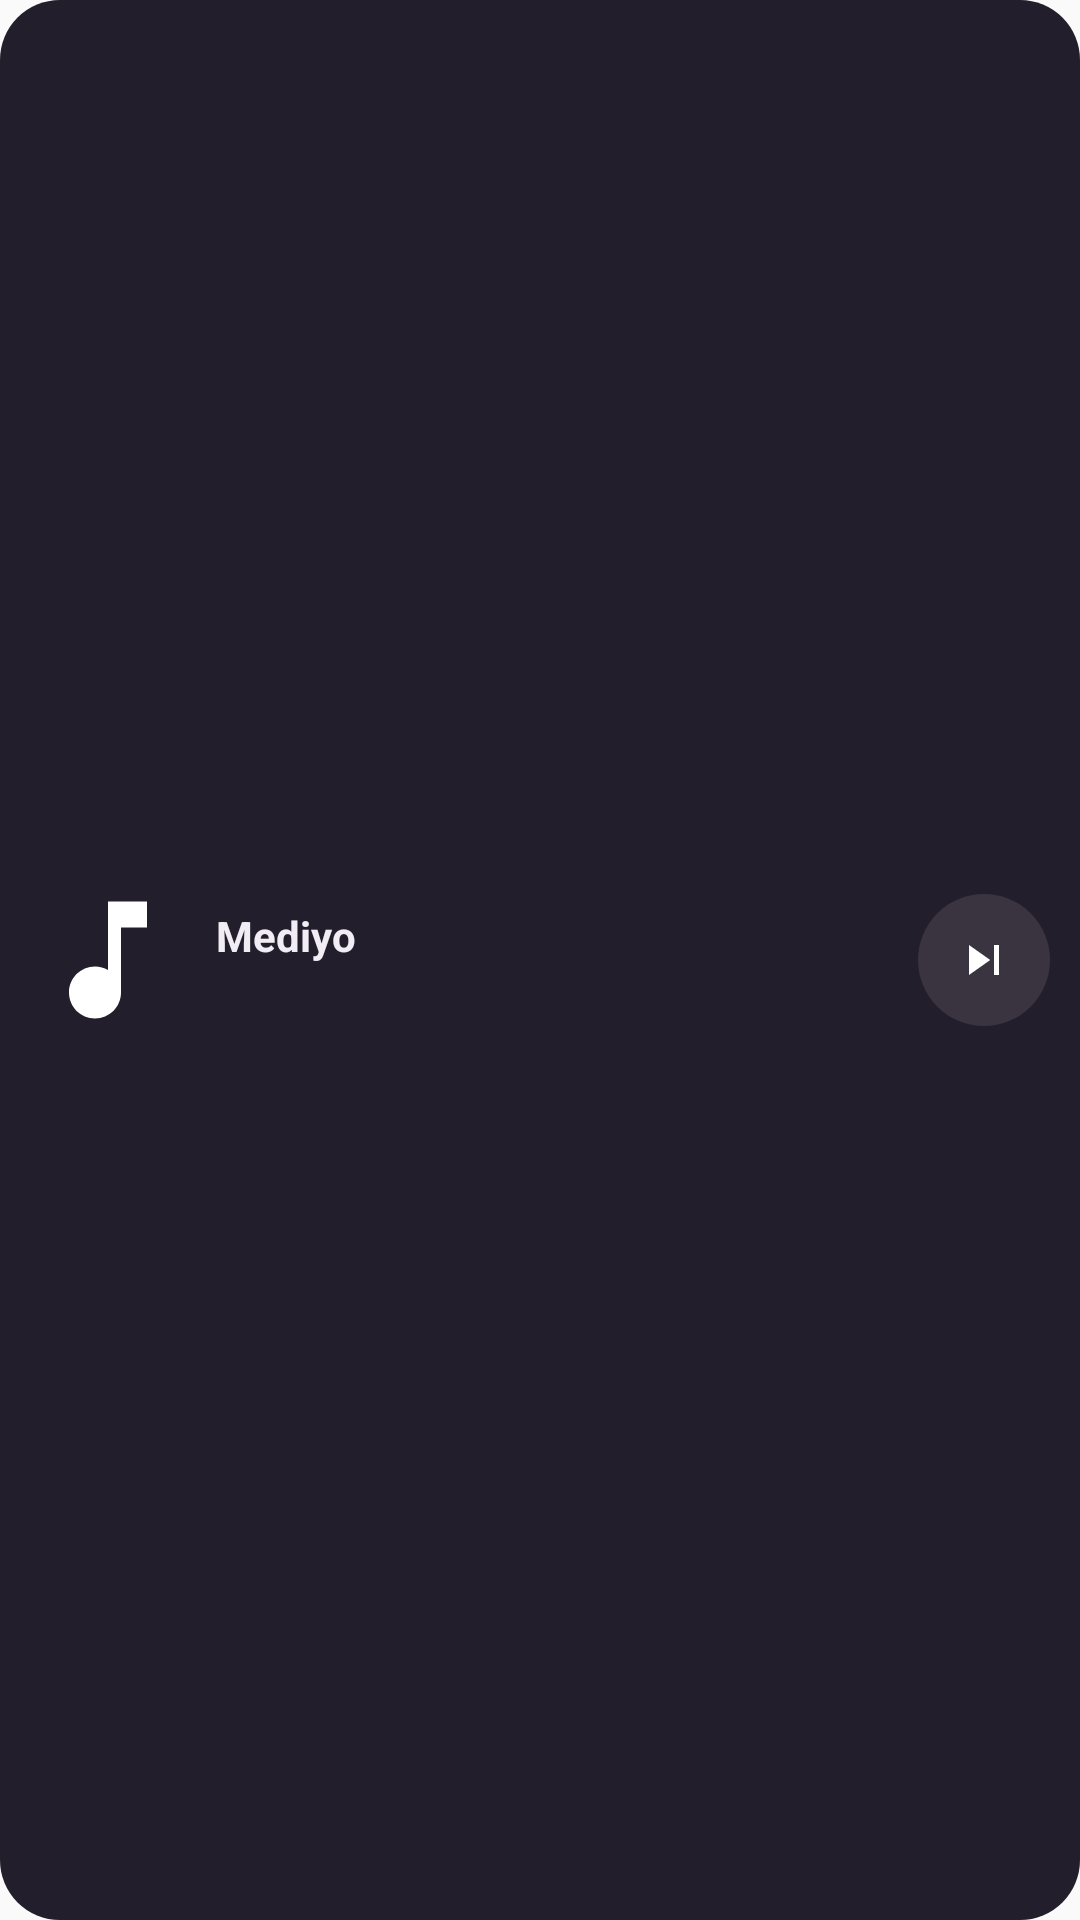

Where to tap for icons on this 1080 × 1920 app screen, as (x,y):
widget next: (984,960)
widget note: (108,960)
